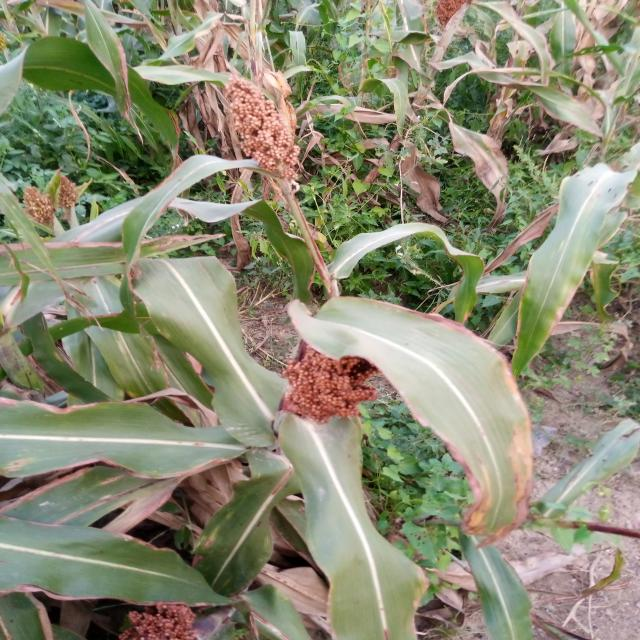RipeSorghum: (176, 72, 328, 166), (267, 330, 402, 427)
